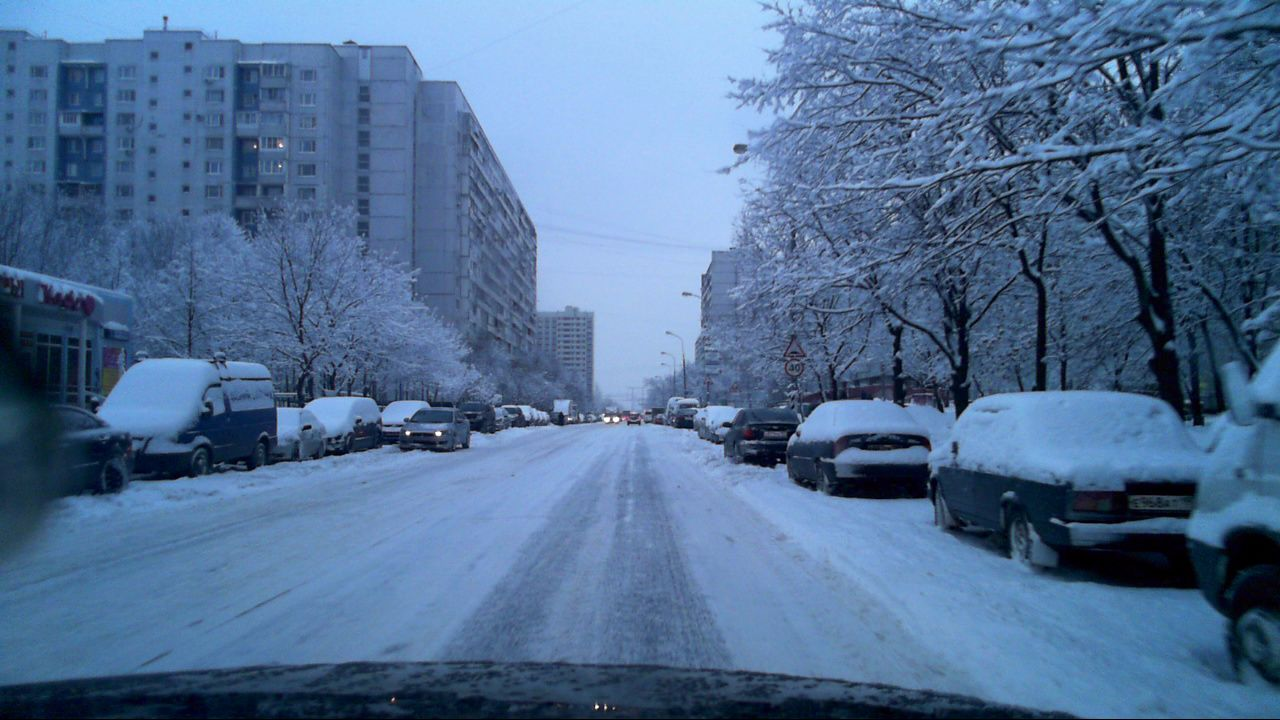speed_warning_40: (784, 356, 804, 377)
